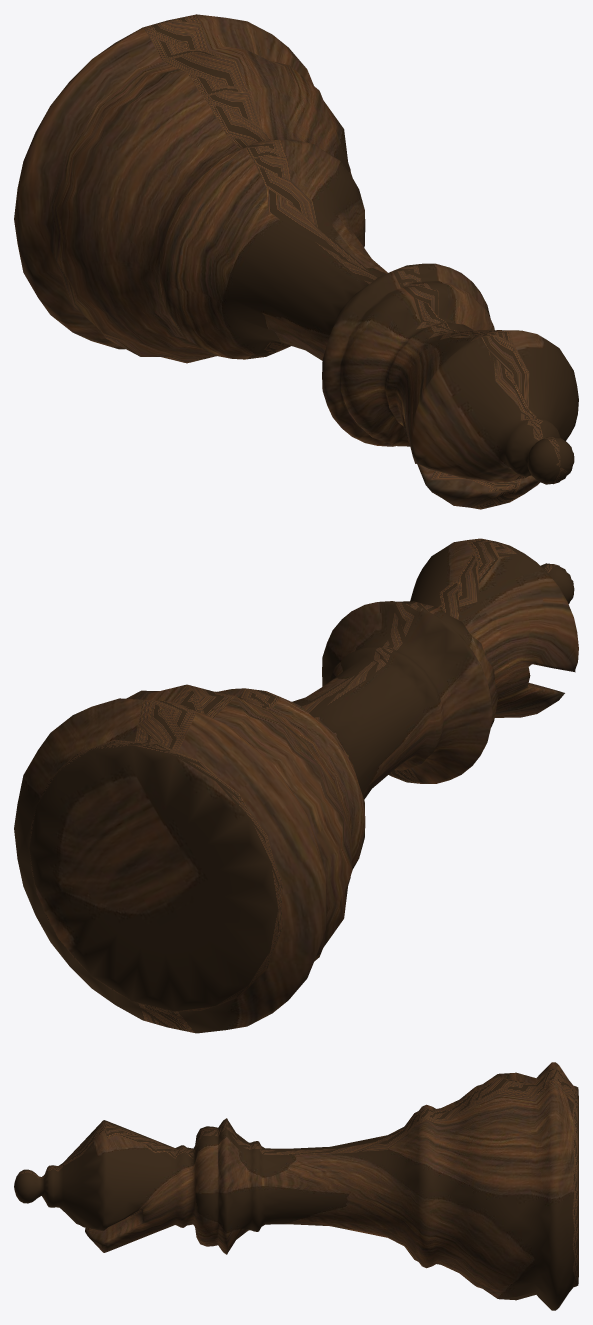
Rendered from Alfiere_Nero_1-7k.obj.
3 renders of one model, top to bottom at view 1: azimuth 30°, elevation 25°; view 2: azimuth 150°, elevation 25°; view 3: azimuth 270°, elevation 25°, orthographic. The views are drawn at different scales.
Visible parts, largest first — view 1: 12929_WoodenChessBishopSideA_v1_l3; view 2: 12929_WoodenChessBishopSideA_v1_l3; view 3: 12929_WoodenChessBishopSideA_v1_l3.
Part boxes in pixels (x1,y1,x2,y2): 12929_WoodenChessBishopSideA_v1_l3: [14, 14, 578, 509]; 12929_WoodenChessBishopSideA_v1_l3: [14, 538, 578, 1033]; 12929_WoodenChessBishopSideA_v1_l3: [14, 1062, 578, 1310].
Bounding box in the file's own units: 4.53 × 4.53 × 10.27.
Materials: 1 (1 with a texture image).
